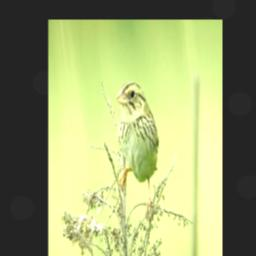Sparrow: (115, 80, 159, 218)
